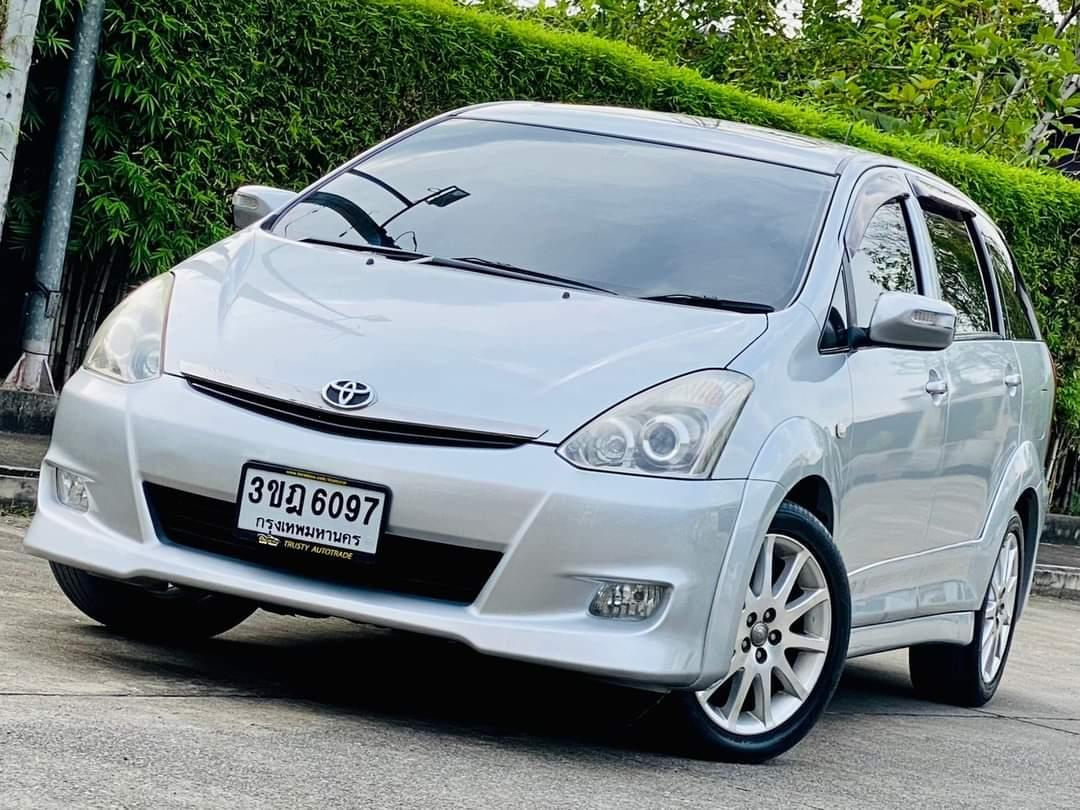license-plate: (230, 460, 392, 572)
